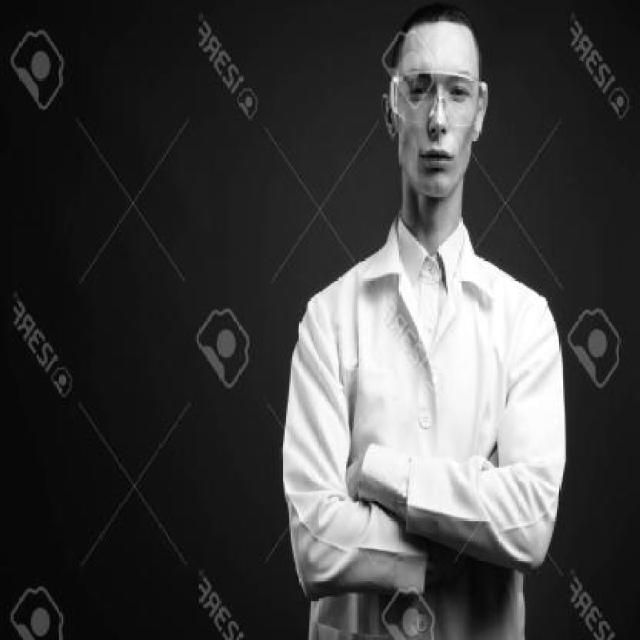face_nomask: (396, 74, 487, 181)
glasses: (388, 66, 488, 137)
head_nohelmet: (394, 1, 484, 56)
person: (272, 9, 576, 640)
